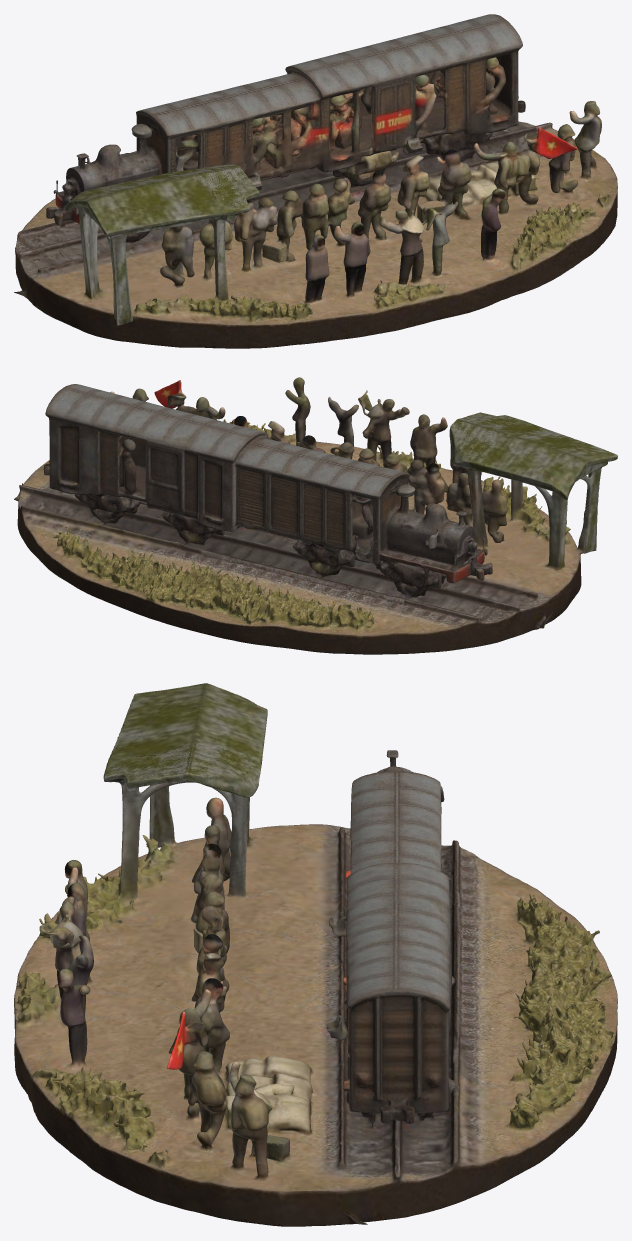
File: Chi viện cho miền Nam.glb
3 views of the same model, one above another, from view 1: azimuth 30°, elevation 25°; view 2: azimuth 150°, elevation 25°; view 3: azimuth 270°, elevation 25° (orthographic). The views are drawn at different scales.
Bounding box in the file's own units: 1.9 × 0.472 × 1.3.
1 material, 1 textured.
